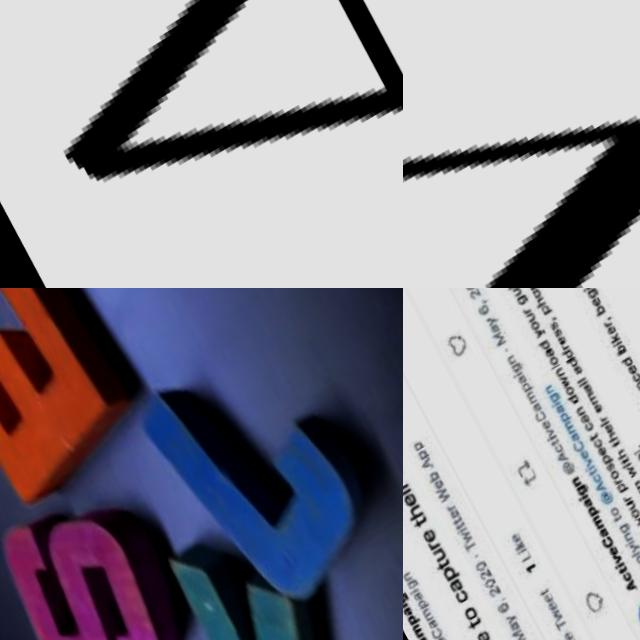0: (494, 578, 507, 591), (484, 561, 497, 573), (469, 288, 482, 291)
1: (535, 563, 549, 575)
2: (499, 586, 512, 599), (489, 569, 502, 581), (473, 288, 486, 299)
6: (507, 602, 520, 614), (482, 304, 495, 316)
A: (0, 0, 403, 288), (458, 578, 475, 596), (428, 457, 442, 471), (602, 481, 616, 495), (591, 497, 604, 510), (608, 527, 621, 539), (564, 451, 577, 463), (413, 606, 425, 618), (439, 620, 451, 631), (423, 591, 435, 602), (520, 622, 532, 633), (523, 374, 535, 385), (495, 323, 507, 334), (562, 404, 574, 415), (586, 415, 598, 426), (550, 348, 562, 359), (588, 384, 600, 395), (578, 366, 590, 377), (539, 402, 550, 413), (578, 433, 589, 444), (634, 578, 640, 594), (430, 636, 441, 640)
B: (598, 305, 611, 318), (435, 472, 448, 484), (620, 345, 633, 357)
C: (464, 589, 482, 607), (611, 536, 625, 550), (541, 411, 555, 425), (580, 441, 594, 455), (590, 421, 603, 434), (599, 474, 612, 486), (441, 628, 454, 640), (600, 438, 612, 450), (561, 444, 573, 455), (630, 571, 640, 583), (636, 372, 640, 384)
D: (625, 356, 640, 369), (573, 395, 586, 407), (572, 358, 585, 370), (567, 349, 580, 361), (545, 341, 557, 353)
E: (0, 288, 189, 531), (410, 491, 428, 509), (431, 528, 448, 545), (486, 629, 504, 640), (557, 601, 570, 613), (553, 593, 566, 605), (520, 533, 533, 545), (618, 545, 631, 557), (610, 424, 623, 436), (611, 325, 624, 337), (604, 446, 616, 458), (457, 510, 469, 521), (587, 450, 599, 461), (599, 404, 611, 415), (561, 336, 573, 347), (595, 298, 607, 309), (573, 630, 586, 640), (442, 480, 453, 491), (549, 420, 560, 431), (633, 365, 640, 376), (449, 637, 459, 640)
G: (517, 362, 530, 375), (407, 594, 420, 606), (417, 578, 430, 590), (585, 485, 598, 497), (556, 392, 569, 404), (522, 294, 534, 307), (628, 523, 640, 535), (591, 288, 603, 299)
H: (414, 504, 435, 522), (613, 433, 626, 445), (538, 297, 551, 309), (622, 450, 635, 462)
I: (407, 488, 420, 498), (588, 494, 599, 503), (558, 401, 569, 410), (410, 603, 420, 611), (625, 563, 634, 571), (403, 470, 410, 480), (466, 528, 476, 535), (520, 372, 530, 379), (630, 463, 640, 470), (618, 342, 628, 349), (528, 548, 537, 555), (556, 436, 565, 443), (594, 465, 603, 472), (607, 421, 616, 428), (585, 381, 594, 388), (421, 588, 429, 595), (587, 288, 596, 292), (635, 539, 640, 546), (512, 288, 522, 291)
K: (614, 333, 626, 345), (524, 541, 535, 551)
L: (530, 552, 542, 564), (557, 364, 567, 371), (583, 378, 593, 385)
M: (421, 622, 438, 640), (497, 331, 513, 347), (601, 515, 616, 531), (532, 390, 547, 406), (571, 421, 586, 437), (432, 608, 446, 623), (593, 392, 607, 407), (522, 630, 538, 640)
N: (578, 477, 591, 489), (551, 384, 563, 396), (403, 584, 414, 596), (412, 571, 424, 582), (513, 354, 524, 366), (561, 367, 572, 379), (403, 457, 409, 474), (584, 408, 593, 418), (633, 532, 640, 542), (531, 288, 542, 292)
O: (474, 605, 492, 623), (554, 356, 566, 368), (618, 470, 630, 481), (535, 321, 546, 332), (619, 508, 629, 518), (572, 386, 581, 396), (537, 289, 546, 299)
P: (452, 564, 471, 583), (420, 440, 433, 453), (418, 614, 431, 626), (425, 449, 438, 461), (527, 381, 540, 393), (567, 412, 580, 424), (626, 482, 639, 494), (608, 454, 621, 466), (545, 305, 558, 317), (597, 505, 609, 517), (428, 598, 440, 609)
R: (404, 480, 419, 493), (437, 539, 451, 552), (455, 503, 465, 512), (606, 416, 616, 424), (608, 320, 618, 328), (632, 495, 640, 504), (622, 478, 631, 486), (528, 308, 536, 315), (567, 344, 575, 351)
S: (0, 467, 221, 640), (613, 462, 625, 473), (557, 328, 569, 339), (554, 322, 565, 333)
T: (446, 558, 463, 572), (479, 617, 495, 631), (422, 516, 438, 530), (473, 540, 486, 552), (567, 620, 580, 632), (595, 468, 607, 478), (461, 517, 472, 526), (550, 588, 561, 597), (628, 567, 639, 576), (557, 438, 568, 447), (597, 434, 606, 443), (622, 516, 632, 524), (628, 458, 638, 466), (619, 442, 629, 450), (464, 522, 473, 530)
U: (441, 547, 458, 564), (531, 313, 541, 323), (517, 288, 526, 298), (634, 500, 640, 511)
V: (403, 0, 640, 288), (591, 456, 604, 469), (621, 554, 634, 566), (554, 427, 563, 438)
W: (443, 487, 460, 505), (564, 374, 579, 390), (469, 530, 484, 545), (561, 609, 576, 624), (633, 466, 640, 480)
Y: (517, 615, 530, 627), (539, 327, 552, 339), (491, 315, 504, 327)
